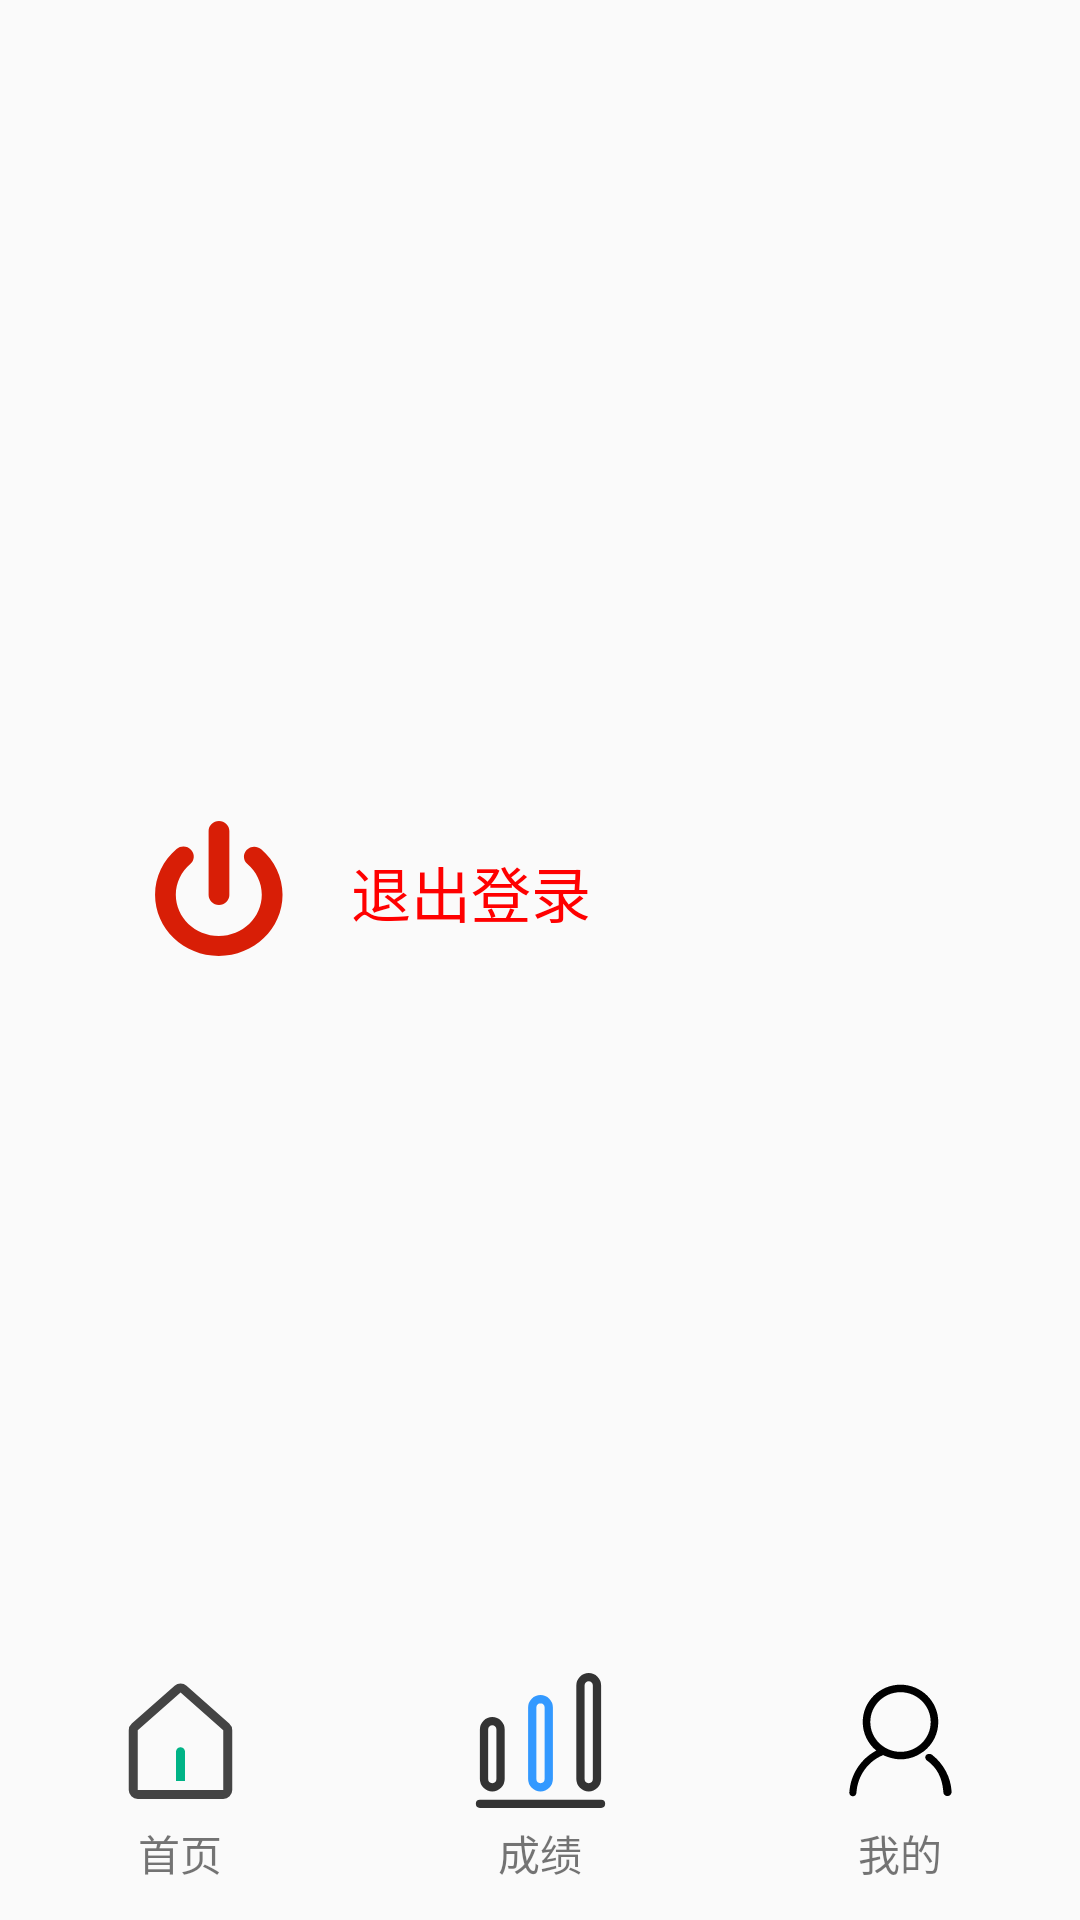

Icons on this 1080 × 1920 Android screen, each with the point to tap as (x,y):
quit: (219,888)
